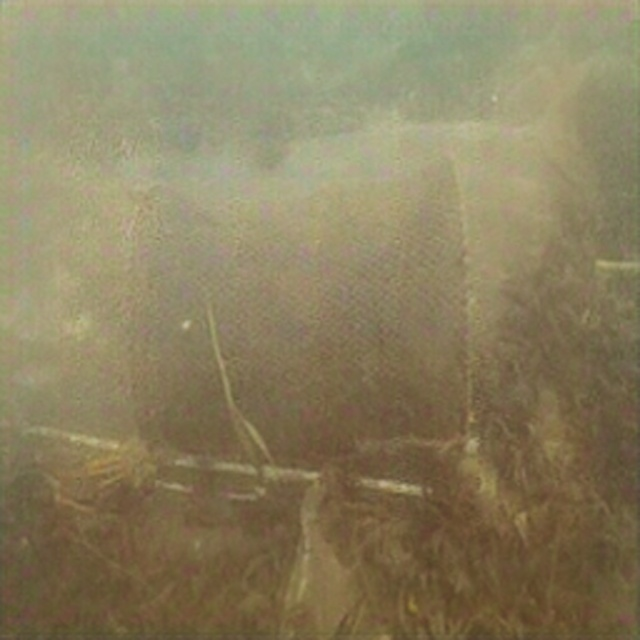mine: (122, 148, 473, 469)
